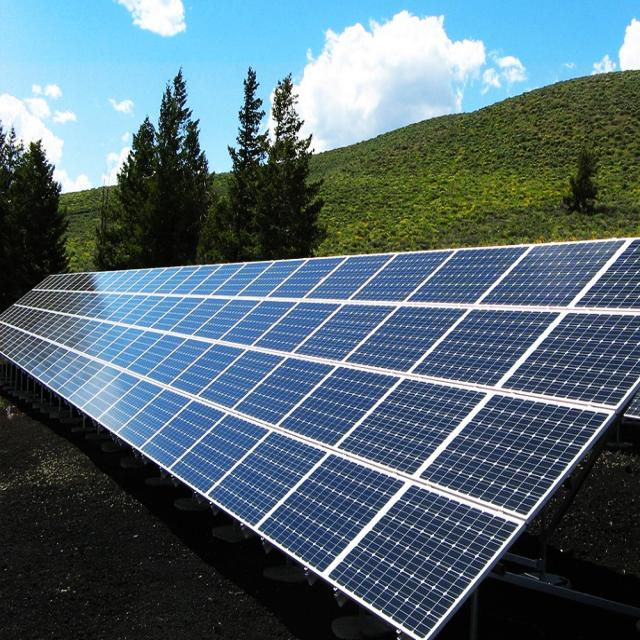clean-solar-panel: (412, 248, 524, 302)
